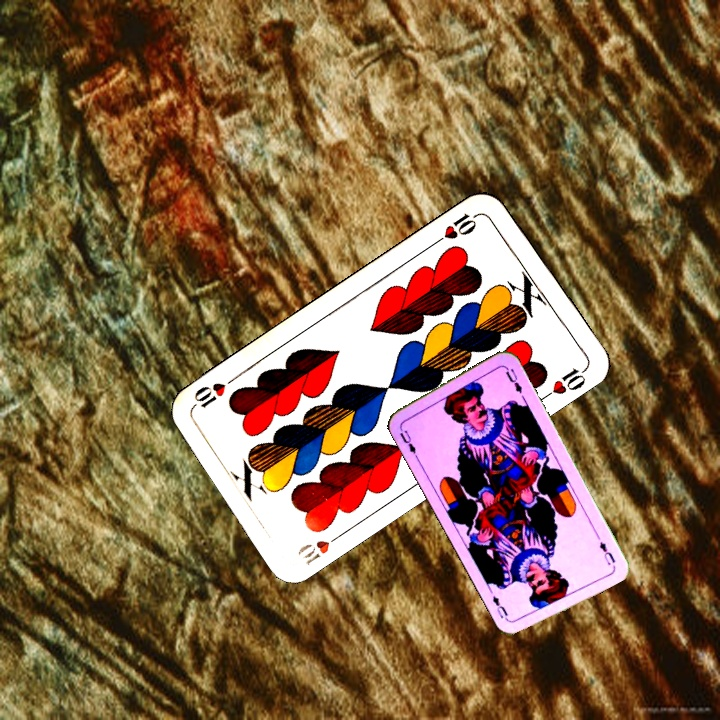EU: (395, 422, 420, 460), (595, 537, 618, 568)
H10: (293, 527, 347, 568), (430, 208, 483, 247)
